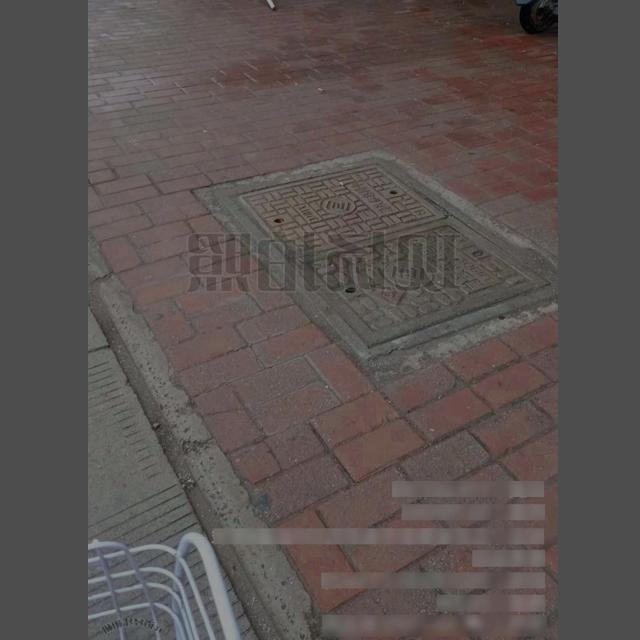good: (215, 156, 556, 361)
